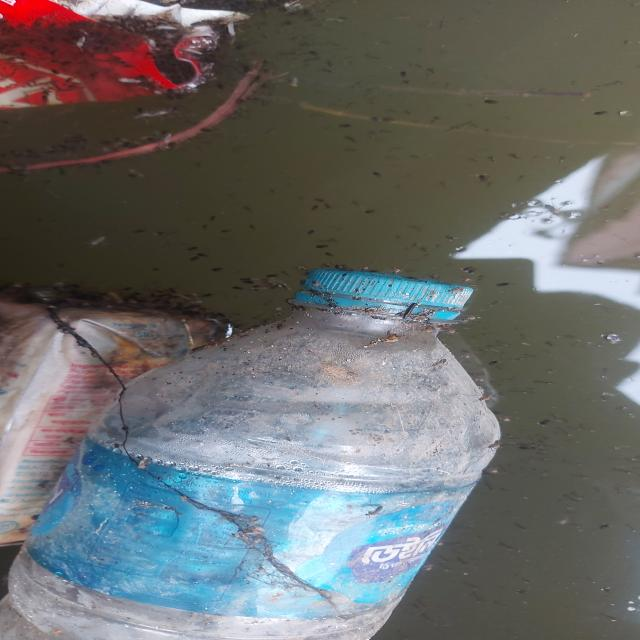Breeding Place: (31, 10, 617, 627)
